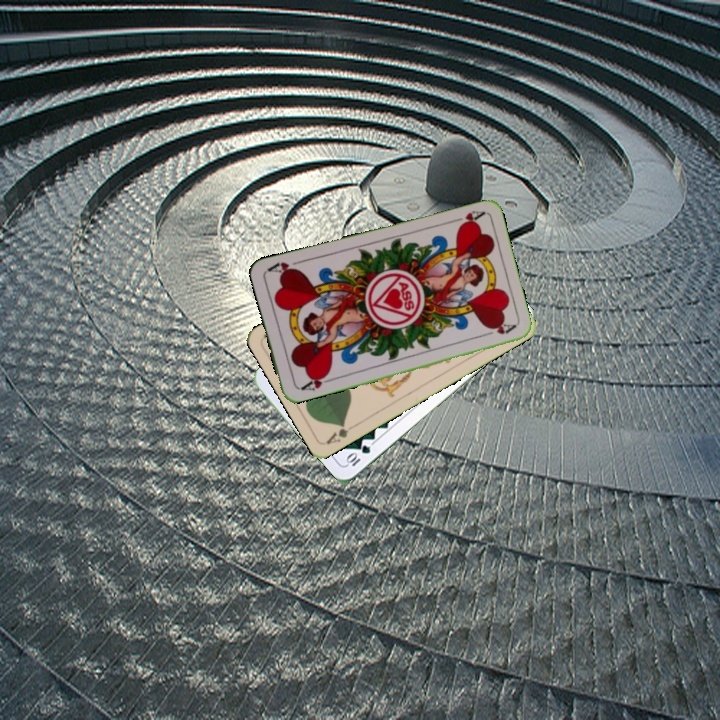G10: (342, 441, 373, 469)
GA: (322, 419, 359, 447)
HA: (295, 369, 335, 393), (446, 206, 486, 230)
